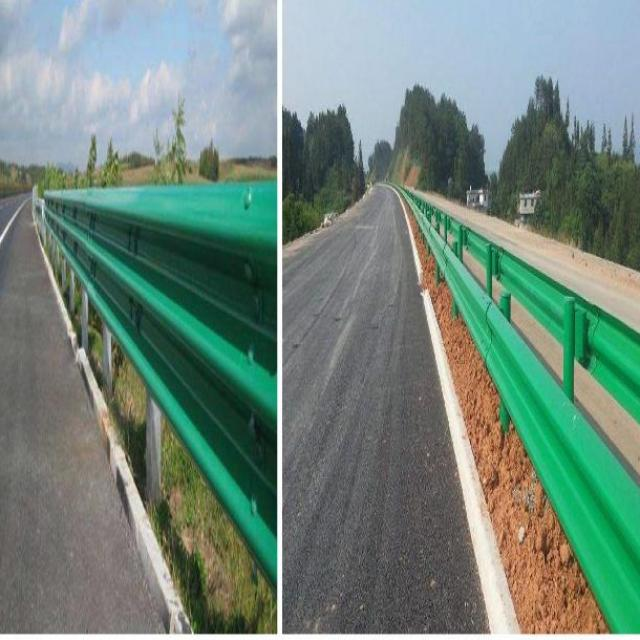Guard rail: (401, 193, 640, 632), (44, 181, 278, 586)
